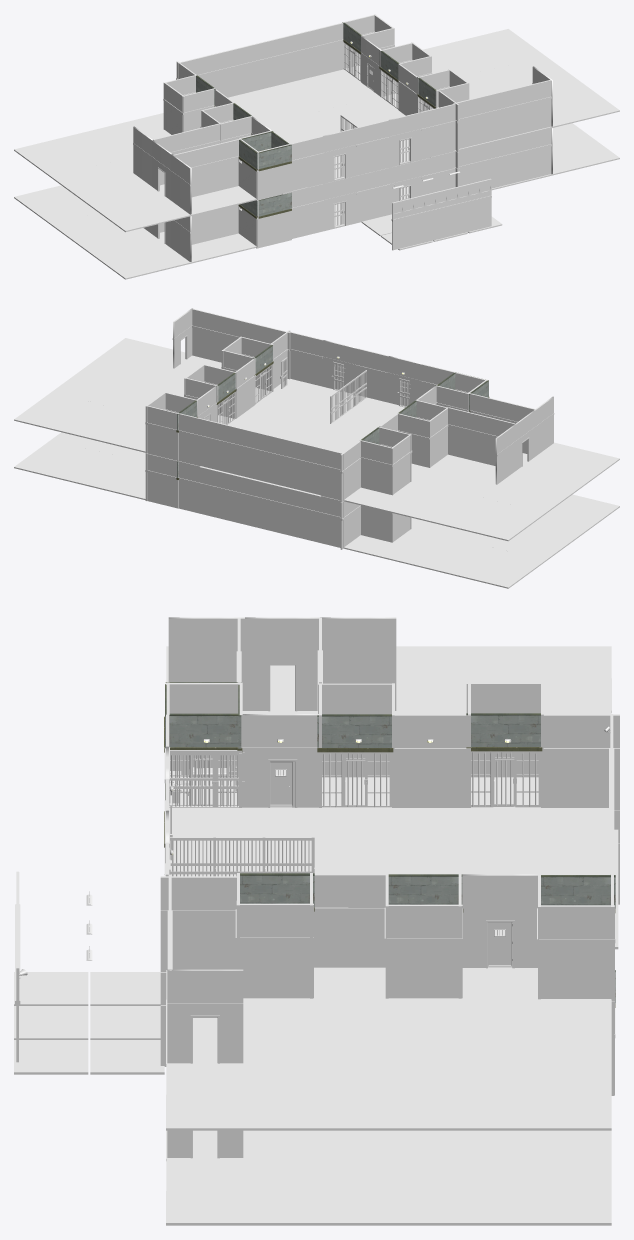
Rendered from PRISON.fbx.
3 views of the same model, one above another, from view 1: azimuth 30°, elevation 25°; view 2: azimuth 150°, elevation 25°; view 3: azimuth 270°, elevation 25° (orthographic). The views are drawn at different scales.
Visible parts, largest first — view 1: Wall_Medium_1, Wall_Medium_windowed__5_, Wall_Medium_windowed__4_, Wall_Medium_windowed__3_, Wall_Medium__6__1, Wall_Medium, Wall_Medium__26__1, Wall_Medium__25__1, Wall_Medium__23__1, Wall_Medium__4__1, Wall_Medium__2__1, Wall_Medium__3__1 (+101 smaller); view 2: Wall_Medium__18__1, Wall_Medium__26__1, Wall_Medium__20__1, Wall_Medium__23__1, Wall_Medium__25__1, Wall_Medium__1__10, Wall_Medium__6__1, Wall_Medium__26_, Wall_Medium__21__1, Wall_Medium_11, Wall_Medium_1, Wall_Medium_5 (+106 smaller); view 3: Wall_Medium__28__1, Wall_Medium__2__12, Wall_Medium__29__1, Wall_Medium__22__1, Wall_Medium__2__13, Wall_Medium__30__1, Wall_Medium__2__11, Door_Wall__5__1, Door_Wall__3__7, Door_Wall__2__1, Door_Wall__1__1, Wall_Medium__12__1 (+88 smaller).
Boxes of the visible parts, x1=… form: Wall_Medium_1: x1=356, y1=120, x2=389, y2=175; Wall_Medium_windowed__5_: x1=391, y1=195, x2=425, y2=250; Wall_Medium_windowed__4_: x1=425, y1=187, x2=458, y2=242; Wall_Medium_windowed__3_: x1=458, y1=178, x2=491, y2=233; Wall_Medium__6__1: x1=421, y1=104, x2=454, y2=159; Wall_Medium: x1=356, y1=168, x2=389, y2=222; Wall_Medium__26__1: x1=310, y1=22, x2=343, y2=77; Wall_Medium__25__1: x1=244, y1=39, x2=277, y2=93; Wall_Medium__23__1: x1=277, y1=30, x2=310, y2=85; Wall_Medium__4__1: x1=486, y1=87, x2=519, y2=141; Wall_Medium__2__1: x1=290, y1=136, x2=323, y2=190; Wall_Medium__3__1: x1=519, y1=80, x2=551, y2=133; Wall_Medium__18__1: x1=448, y1=407, x2=481, y2=462; Wall_Medium__26__1: x1=179, y1=413, x2=212, y2=468; Wall_Medium__20__1: x1=277, y1=437, x2=311, y2=492; Wall_Medium__23__1: x1=211, y1=421, x2=245, y2=476; Wall_Medium__25__1: x1=244, y1=429, x2=278, y2=484; Wall_Medium__1__10: x1=359, y1=440, x2=393, y2=495; Wall_Medium__6__1: x1=290, y1=332, x2=323, y2=386; Wall_Medium__26_: x1=179, y1=461, x2=211, y2=516; Wall_Medium__21__1: x1=310, y1=445, x2=344, y2=500; Wall_Medium_11: x1=145, y1=405, x2=178, y2=460; Wall_Medium_1: x1=355, y1=348, x2=388, y2=402; Wall_Medium_5: x1=145, y1=453, x2=178, y2=508; Wall_Medium__28__1: x1=394, y1=714, x2=470, y2=807; Wall_Medium__2__12: x1=386, y1=904, x2=462, y2=998; Wall_Medium__29__1: x1=160, y1=876, x2=236, y2=971; Wall_Medium__22__1: x1=543, y1=714, x2=619, y2=809; Wall_Medium__2__13: x1=237, y1=903, x2=313, y2=998; Wall_Medium__30__1: x1=314, y1=874, x2=385, y2=967; Wall_Medium__2__11: x1=539, y1=905, x2=614, y2=1000; Door_Wall__5__1: x1=167, y1=969, x2=243, y2=1063; Door_Wall__3__7: x1=462, y1=874, x2=537, y2=968; Door_Wall__2__1: x1=245, y1=617, x2=319, y2=711; Door_Wall__1__1: x1=244, y1=714, x2=318, y2=807; Wall_Medium__12__1: x1=320, y1=617, x2=396, y2=710.
Bounding box in the file's own units: 8919 × 1657 × 4738.
16 materials, 4 textured.
